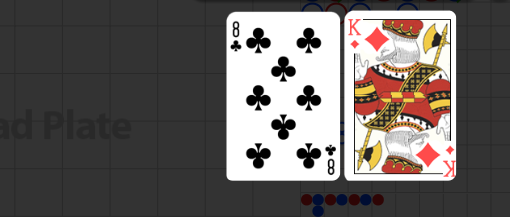8C: (230, 20, 244, 54)
KD: (444, 144, 457, 179)
